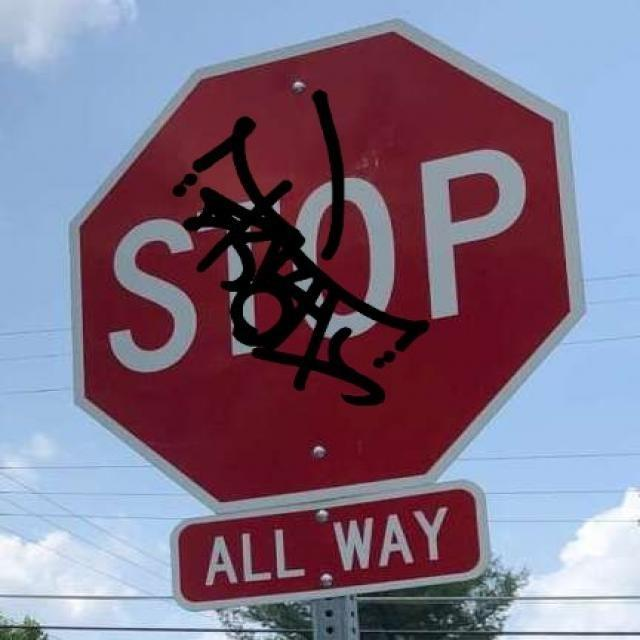Stop-Sign: (84, 28, 570, 486)
